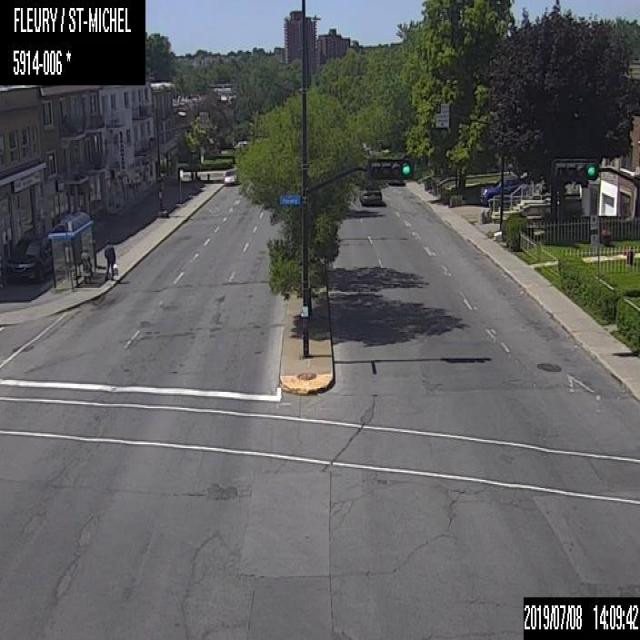pedestrian: (103, 237, 115, 280), (80, 248, 92, 281)
vehicle: (5, 234, 54, 284), (479, 177, 522, 206), (358, 181, 381, 203), (223, 167, 240, 184)
